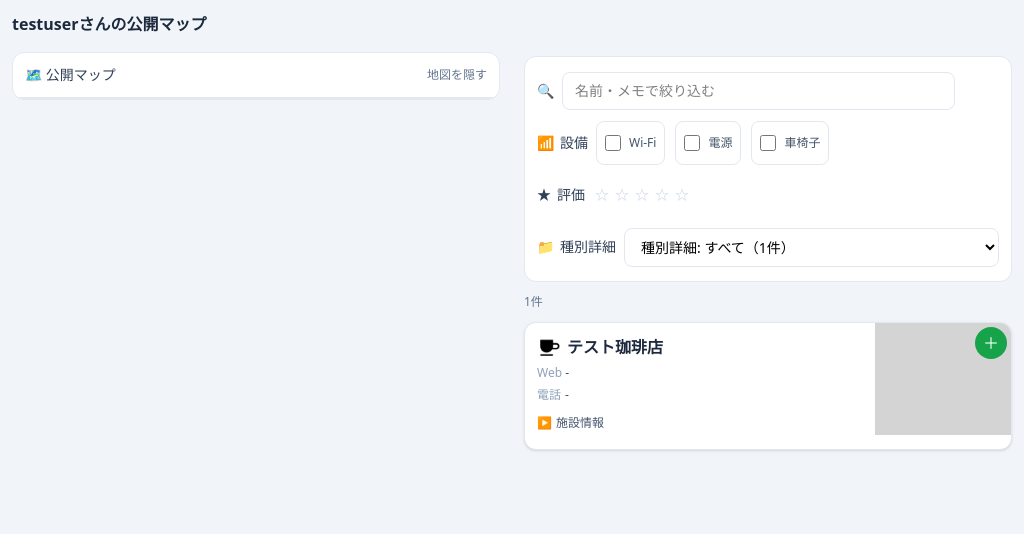
it: userid 指定 › tags がアイコンと種別ラベルを決定する
// 種別ラベル（コンパクットモードでは「施設情報」セクション内に折りたたまれる）
What coordinates should you click on to do the following:
click the button "▶ 施設情報"
I would click on:
 (570, 423)
Its box is [537,409,604,437].
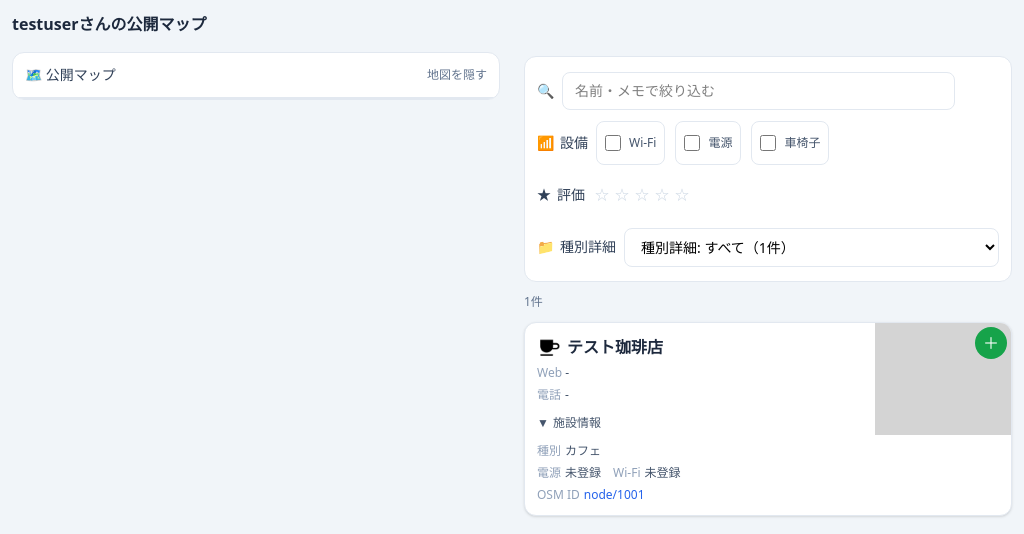
Now the text "カフェ" is shown, box [565,442,601,459]
